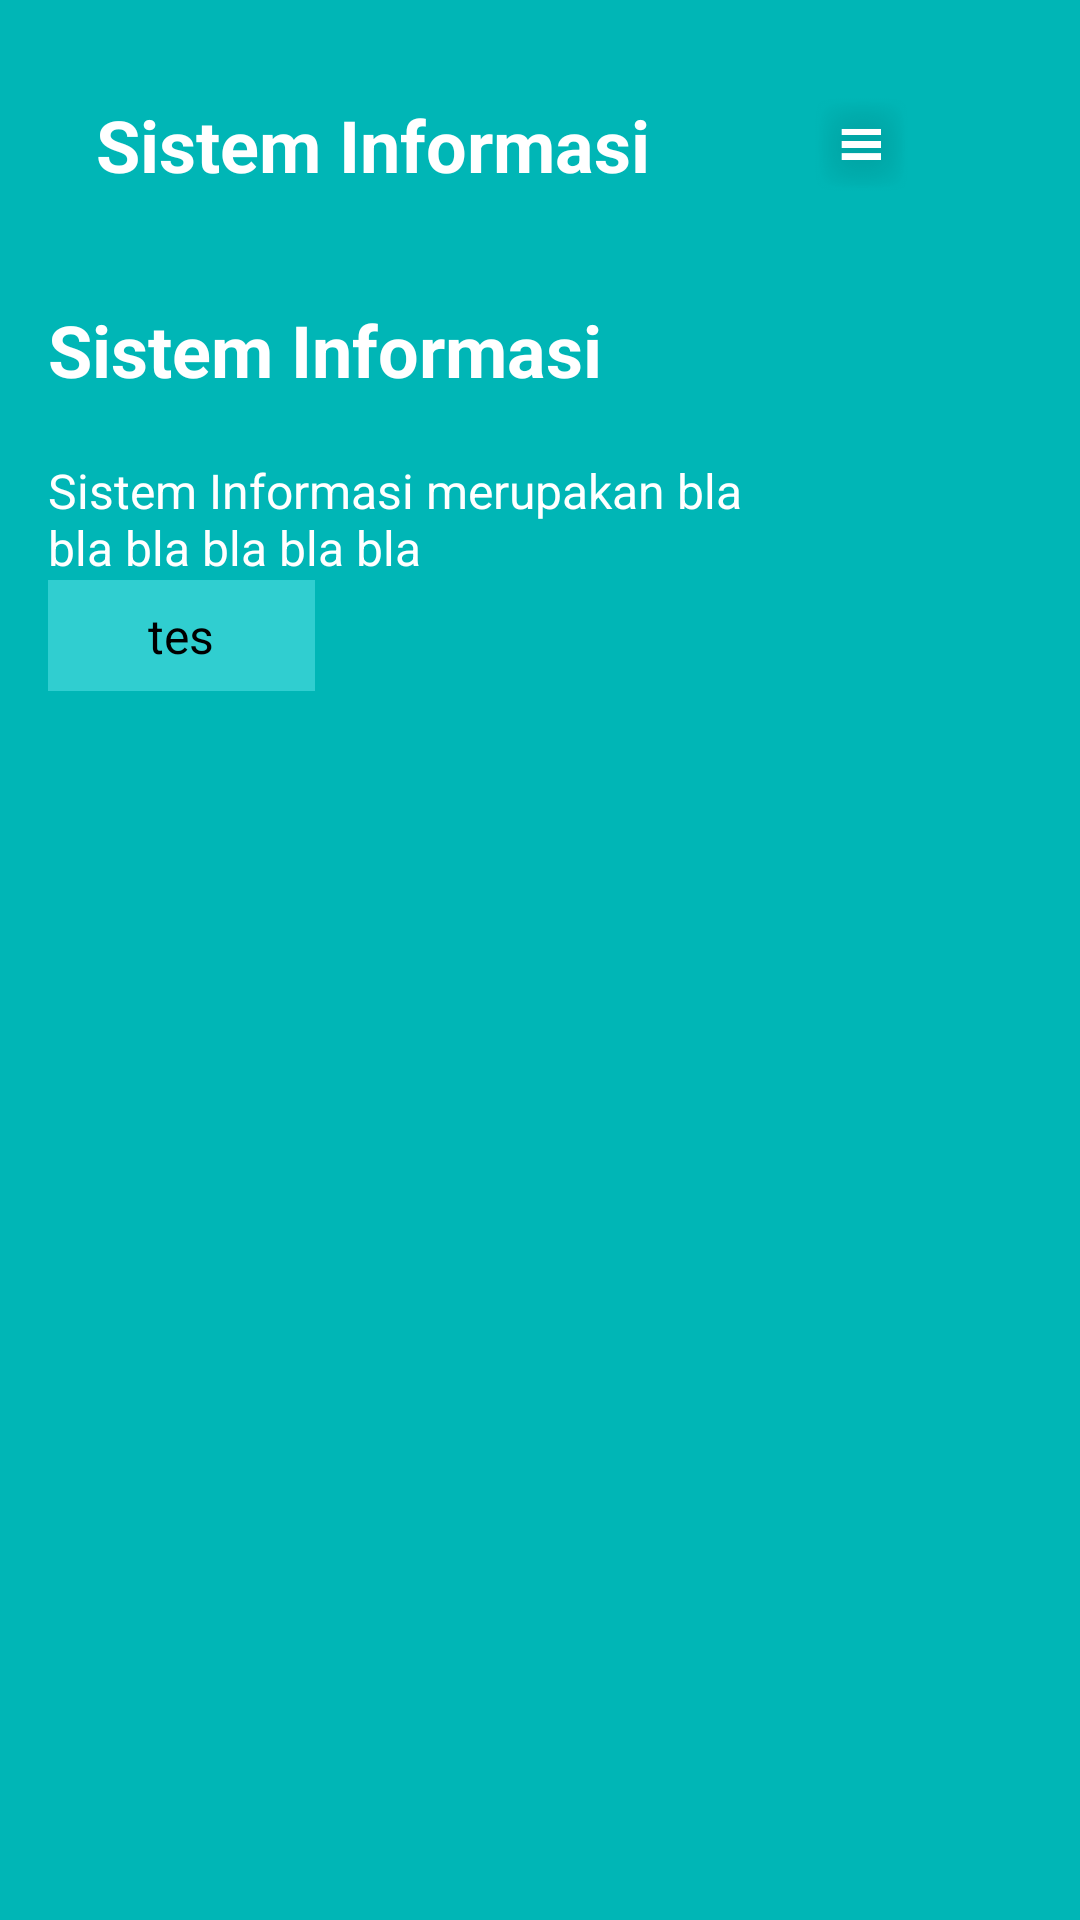

Icons on this 1080w x 1920h Android screen, each with the point to tap as (x,y):
hamburger menu: (861,144)
